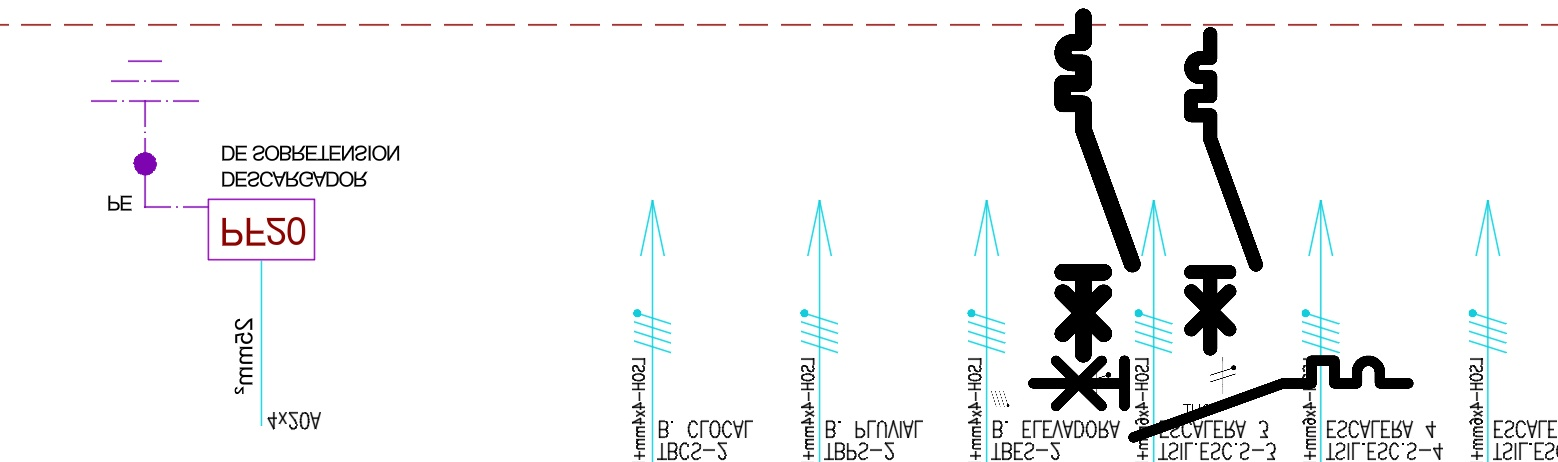interruptor_termomagnetico: (1023, 351, 1417, 447), (1054, 8, 1141, 363), (1183, 26, 1264, 357)
